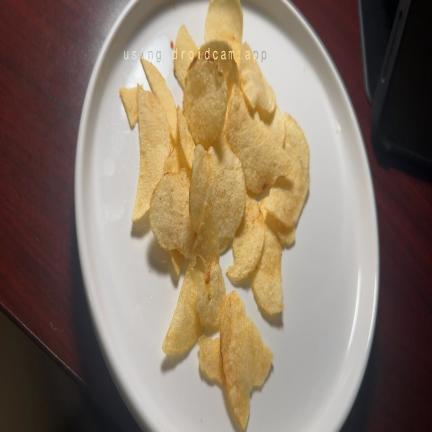chips: (120, 0, 309, 430), (221, 291, 273, 429), (228, 86, 292, 194), (190, 139, 246, 251), (132, 87, 170, 220), (266, 114, 309, 227), (208, 140, 246, 251), (183, 57, 228, 148), (194, 203, 225, 328), (150, 170, 194, 257), (162, 260, 202, 355), (227, 197, 264, 280), (141, 57, 177, 142), (250, 224, 283, 314), (239, 44, 275, 113), (200, 40, 238, 92), (197, 260, 225, 329), (260, 197, 295, 247), (190, 145, 209, 232), (205, 0, 242, 42), (194, 202, 219, 264), (174, 26, 198, 88), (199, 336, 224, 385), (255, 107, 285, 147), (177, 107, 196, 170), (164, 141, 190, 176), (120, 88, 138, 128), (170, 250, 183, 276)
plate: (76, 0, 236, 430)
